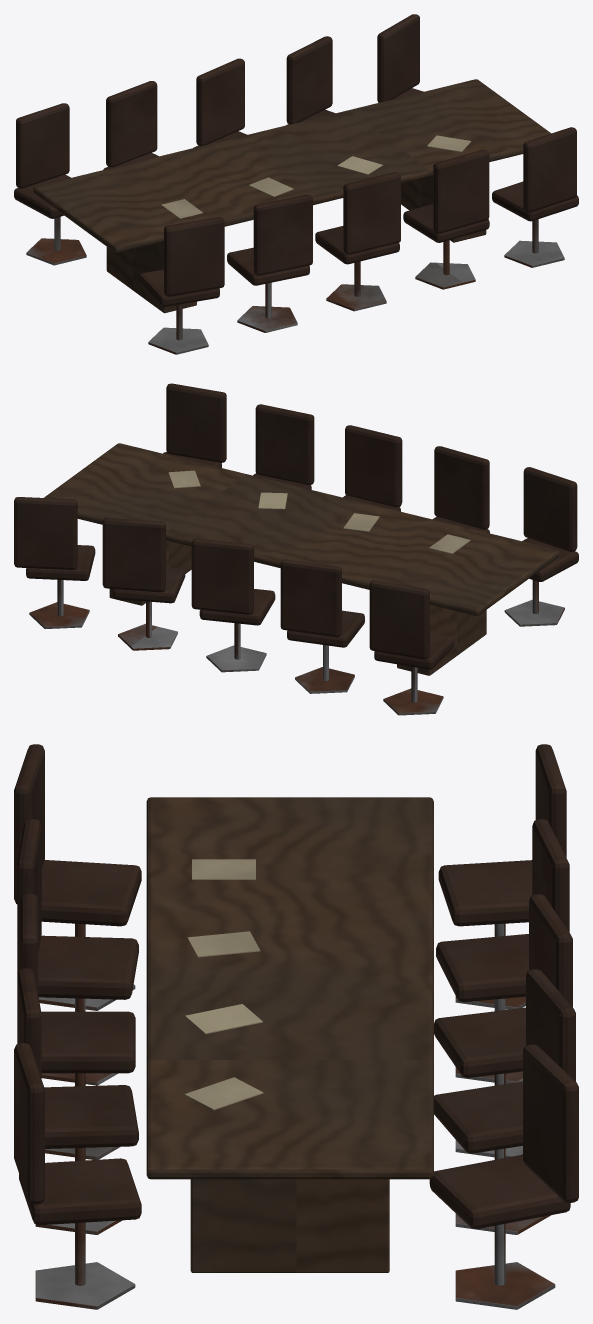
File: O01_boardroom_table.glb
3 views of the same model, one above another, from view 1: azimuth 30°, elevation 25°; view 2: azimuth 150°, elevation 25°; view 3: azimuth 270°, elevation 25° (orthographic). The views are drawn at different scales.
Visible parts, largest first — view 1: O01_boardroom_table; view 2: O01_boardroom_table; view 3: O01_boardroom_table.
Part boxes in pixels (left/top/right/bottom): O01_boardroom_table: left=14, top=14, right=578, bottom=354; O01_boardroom_table: left=14, top=383, right=578, bottom=715; O01_boardroom_table: left=14, top=744, right=578, bottom=1309.
Bounding box in the file's own units: 4 × 1.12 × 2.56.
Materials: 4 (4 with a texture image).
